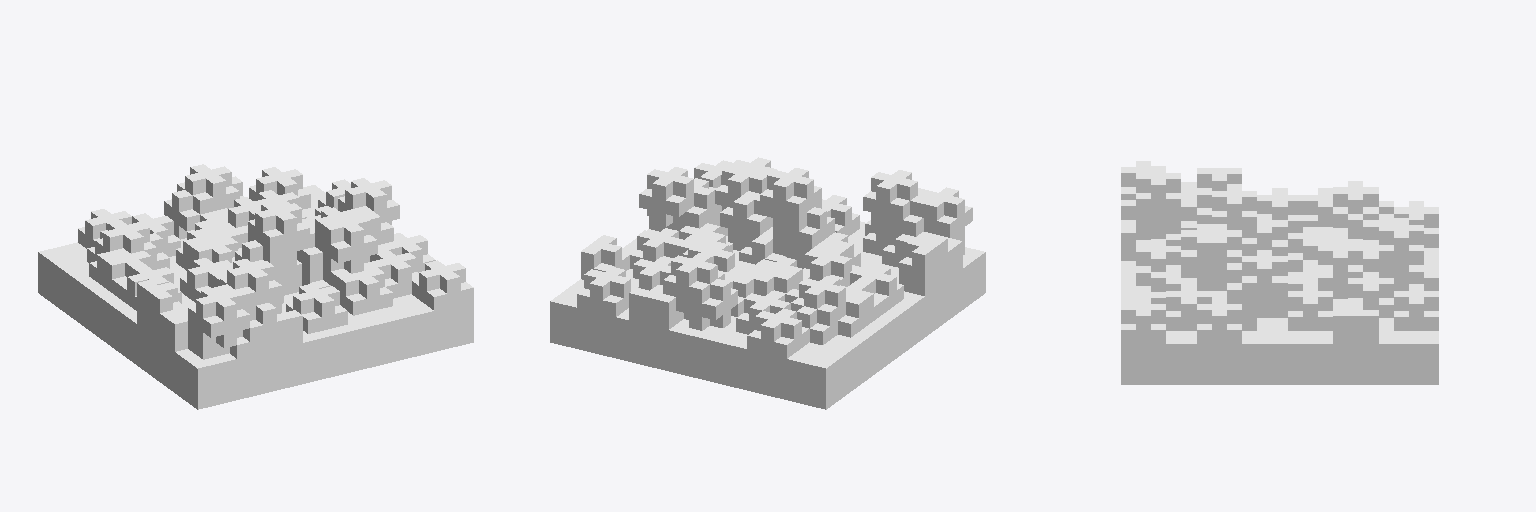
Rendered from forest4.obj.
The picture shows the model from 3 angles: view 1: azimuth 30°, elevation 25°; view 2: azimuth 150°, elevation 25°; view 3: azimuth 270°, elevation 25°; orthographic projection.
Bounding box in the file's own units: 21 × 9 × 21.